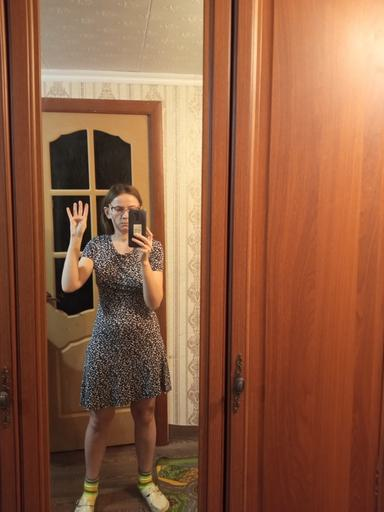four: (65, 199, 90, 239)
